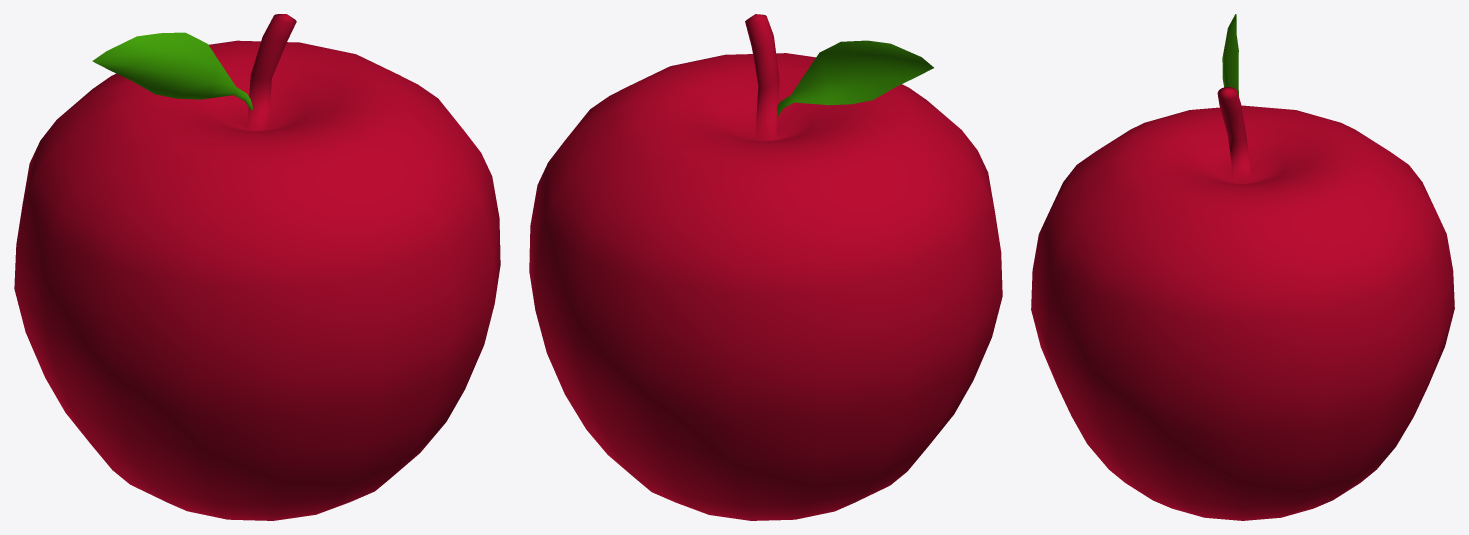
Rendered from apple.fbx.
3 views of the same model, side by side, from view 1: azimuth 30°, elevation 25°; view 2: azimuth 150°, elevation 25°; view 3: azimuth 270°, elevation 25° (orthographic). The views are drawn at different scales.
Parts seen in each view (by area): view 1: polySurface1, polySurface2; view 2: polySurface1, polySurface2; view 3: polySurface1, polySurface2.
Boxes of the visible parts, x1,y1,x2,y2 form: polySurface1: (14, 14, 500, 520); polySurface2: (92, 32, 252, 110); polySurface1: (529, 14, 1002, 520); polySurface2: (777, 40, 933, 117); polySurface1: (1031, 87, 1454, 520); polySurface2: (1222, 14, 1238, 95).
Bounding box in the file's own units: 29.58 × 31.61 × 29.61.
